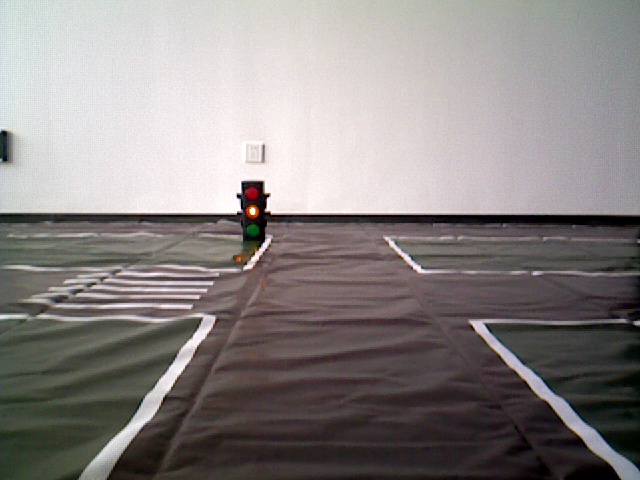yellow: (237, 179, 266, 251)
